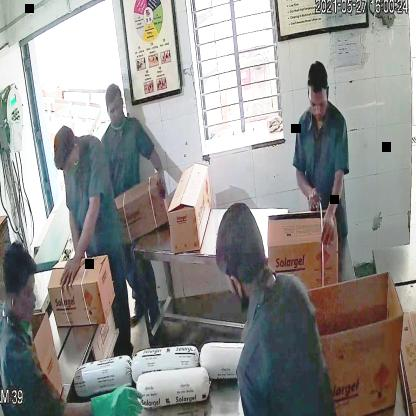no_goggles: (305, 94, 332, 114)
